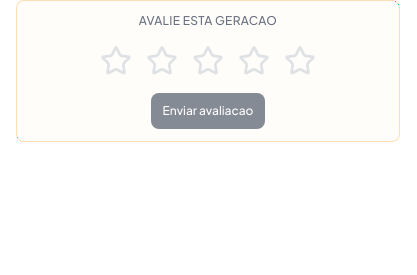
Test: FeedbackStarsCard › submit button is enabled when nota <= 3 with comment
Click the radio button named "1 estrela" at (116, 61), box [96, 41, 136, 81]
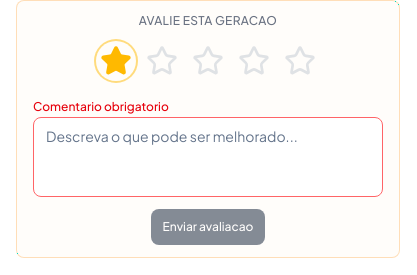
Type "motivo do feedback" into the text box at (208, 157), box [33, 117, 383, 197]
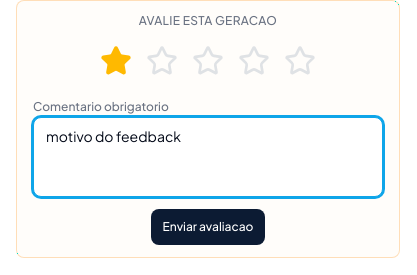
expect the button "Enviar avaliacao" is enabled: met, box [151, 209, 266, 245]
